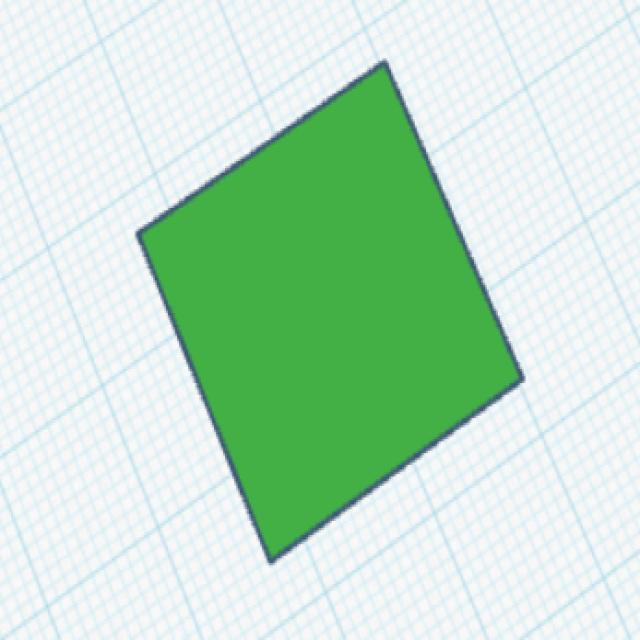cube: (132, 54, 530, 570)
